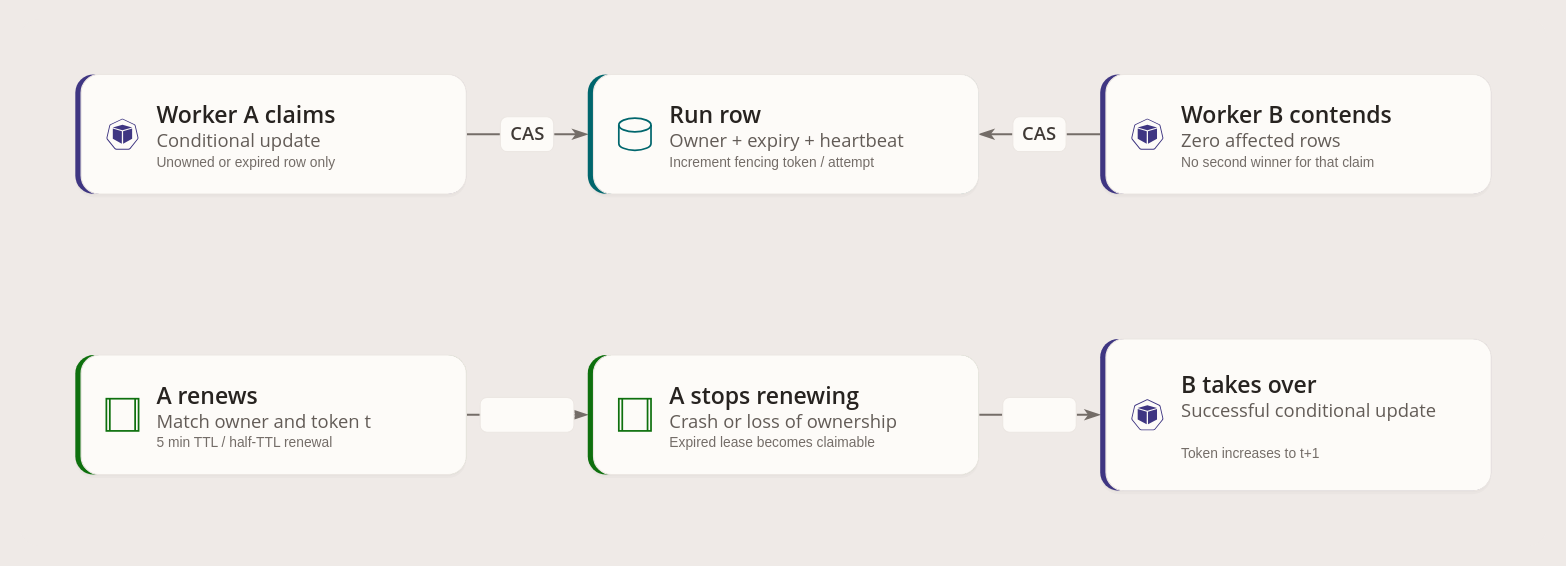
This 1566x566 diagram has some shape labels left out. The centre of each missing label's shape, as x and y in pixels:
"claim" belongs at (x=1039, y=414).
"expires" belongs at (x=526, y=414).
